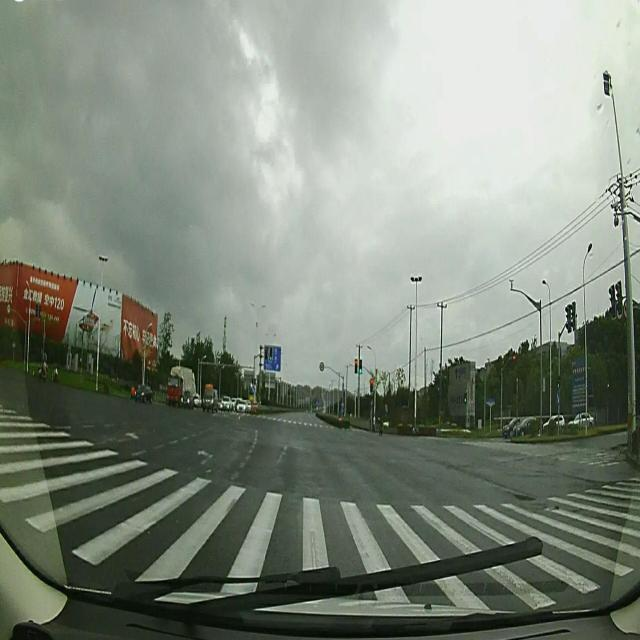car: (168, 365, 195, 405), (503, 416, 526, 439), (202, 385, 218, 413), (512, 418, 536, 436), (136, 384, 152, 400)
